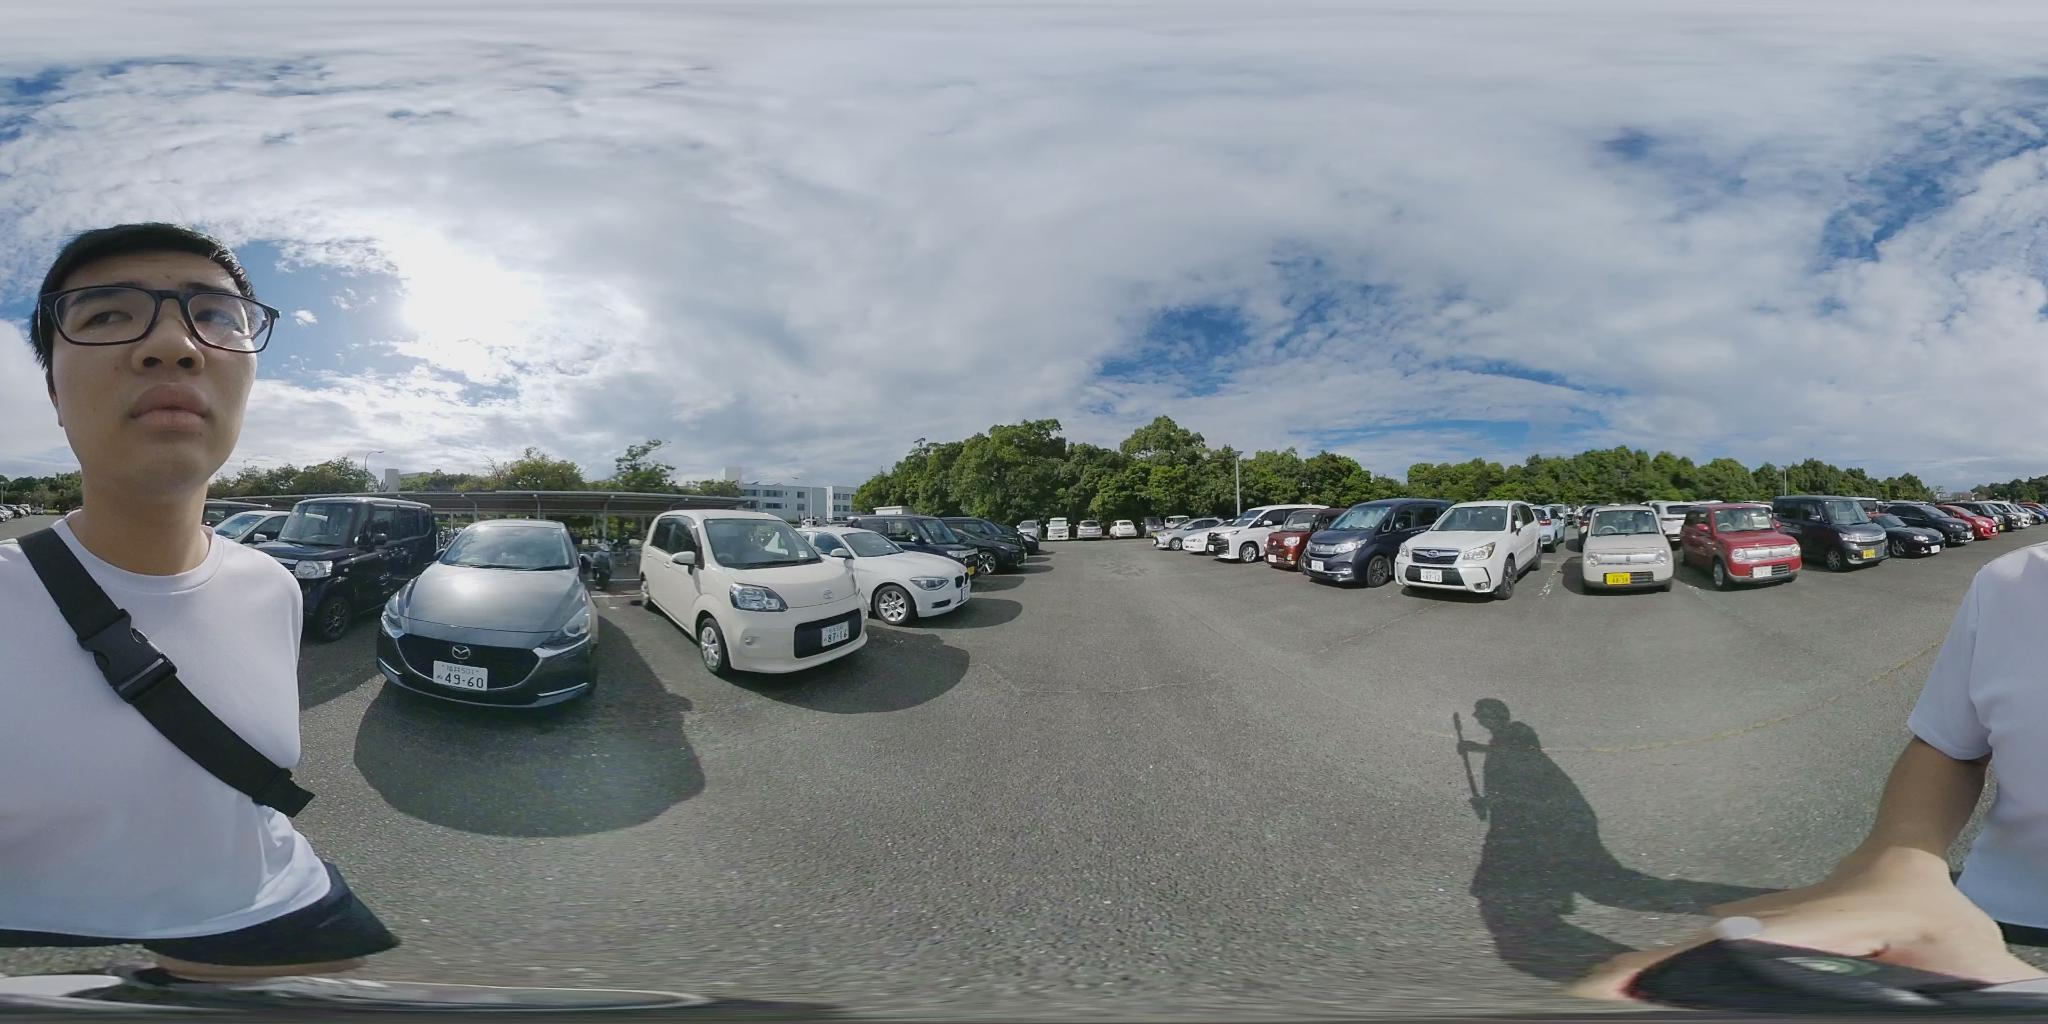car: (631, 507, 965, 678), (372, 513, 610, 713), (216, 494, 445, 636), (1394, 502, 1549, 598), (1297, 499, 1459, 586), (852, 511, 1033, 577), (1673, 504, 1810, 592), (1775, 495, 1899, 568), (1586, 508, 1673, 592), (1228, 504, 1341, 562), (1866, 504, 1967, 558)
